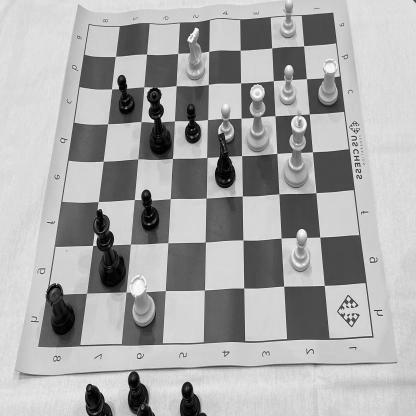black-king: (91, 202, 127, 294)
black-knight: (212, 133, 235, 192)
black-pawn: (138, 187, 164, 231), (114, 71, 137, 115), (182, 101, 203, 147)
black-queen: (147, 80, 172, 159)
black-rook: (45, 276, 78, 336)
white-king: (280, 108, 312, 193)
white-knight: (182, 22, 208, 84)
white-pawn: (287, 225, 313, 274), (277, 0, 303, 43), (278, 61, 300, 107), (217, 100, 236, 145)
white-queen: (244, 78, 272, 158)
white-rook: (129, 272, 158, 328), (316, 55, 343, 108)
